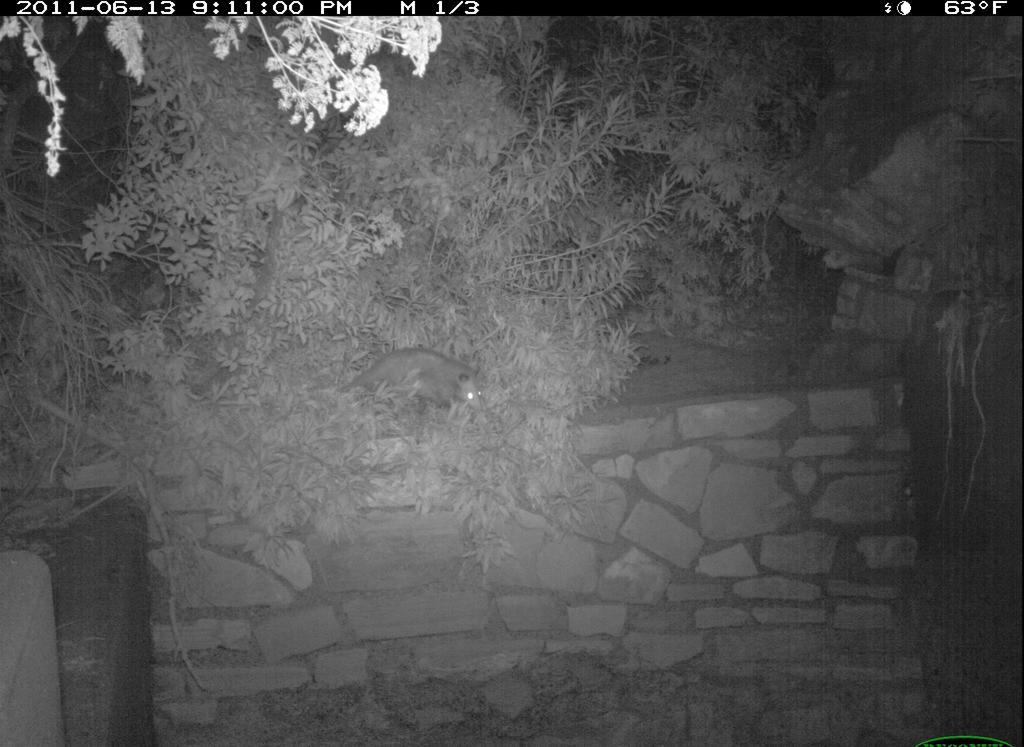opossum: (309, 338, 496, 427)
